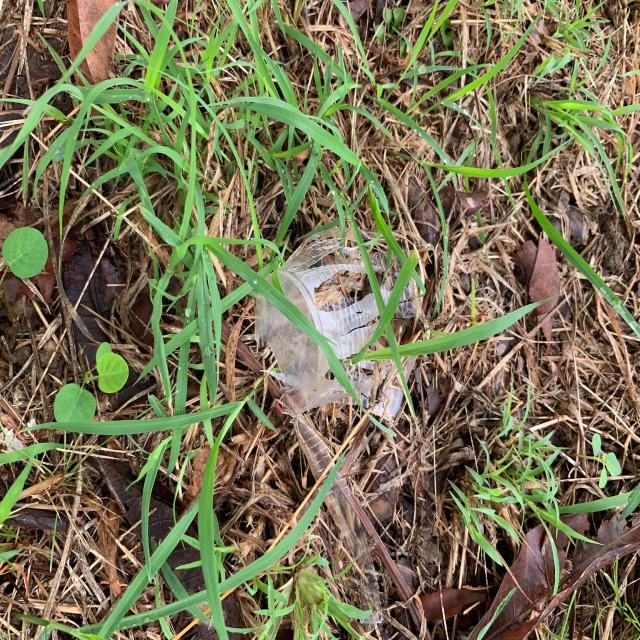litter: (249, 269, 431, 425)
